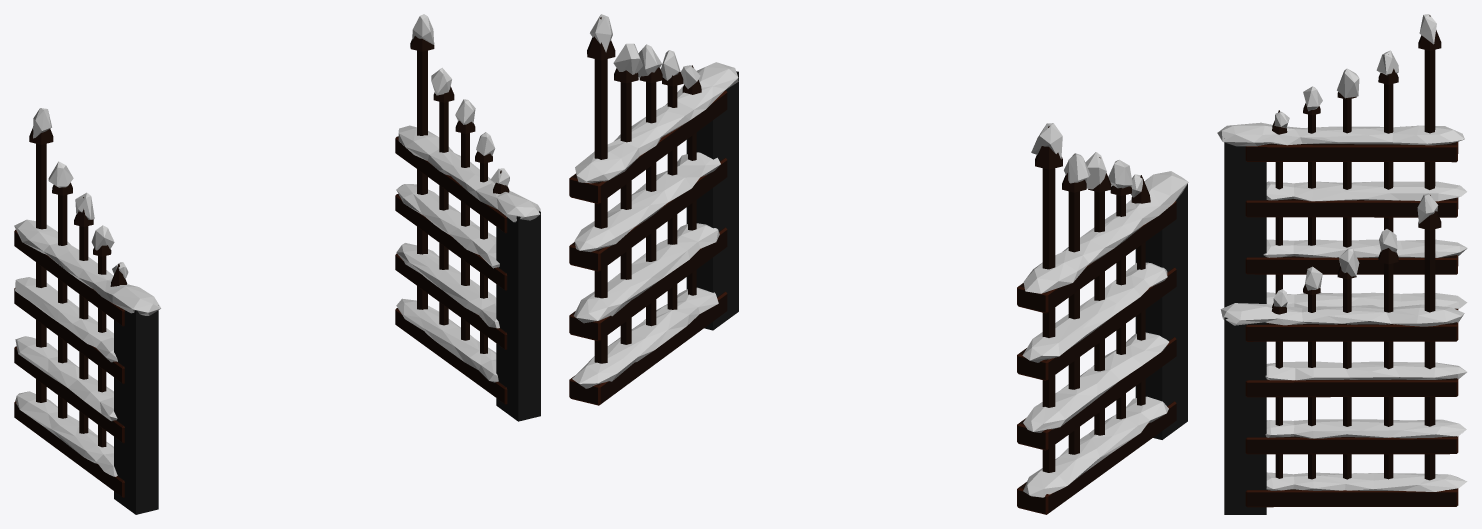
The model's file is GraveyardWSnow_door01.obj.
3 views of the same model, side by side, from view 1: azimuth 30°, elevation 25°; view 2: azimuth 150°, elevation 25°; view 3: azimuth 270°, elevation 25° (orthographic). The views are drawn at different scales.
Parts seen in each view (by area): view 1: GraveYard_Door_Cube.001; view 2: GraveYard_Door_Cube.001; view 3: GraveYard_Door_Cube.001.
Boxes of the visible parts, <box> form: GraveYard_Door_Cube.001: <box>14,14,540,514</box>; GraveYard_Door_Cube.001: <box>569,14,1188,514</box>; GraveYard_Door_Cube.001: <box>1217,14,1467,514</box>.
Bounding box in the file's own units: 5.99 × 4.47 × 3.22.
